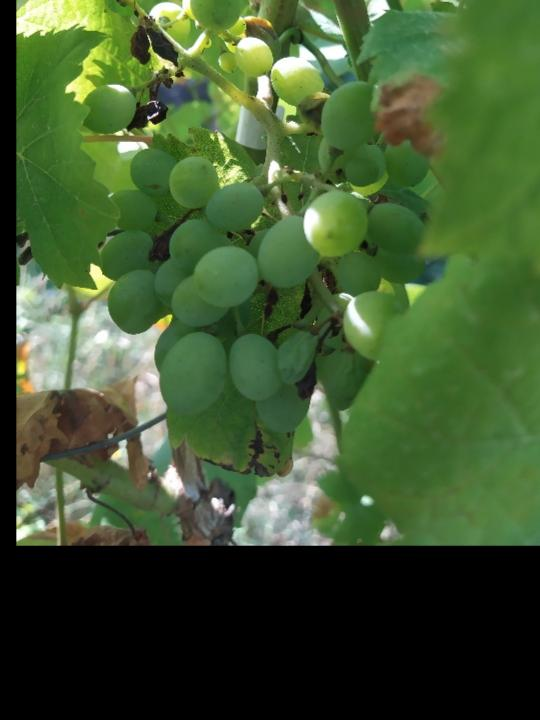grape: (83, 0, 430, 437)
